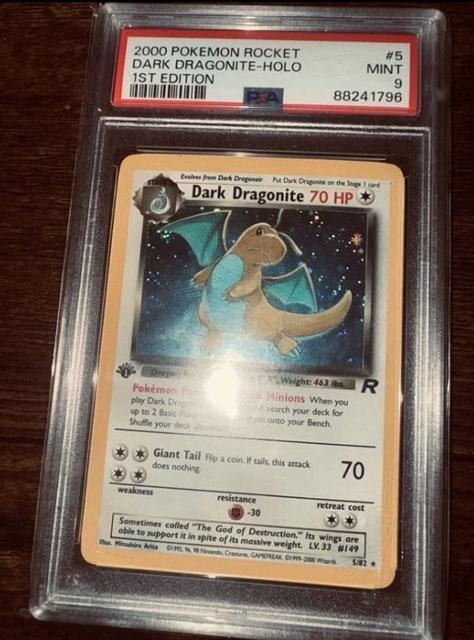Card: (75, 148, 411, 593)
Name: (189, 181, 307, 207)
